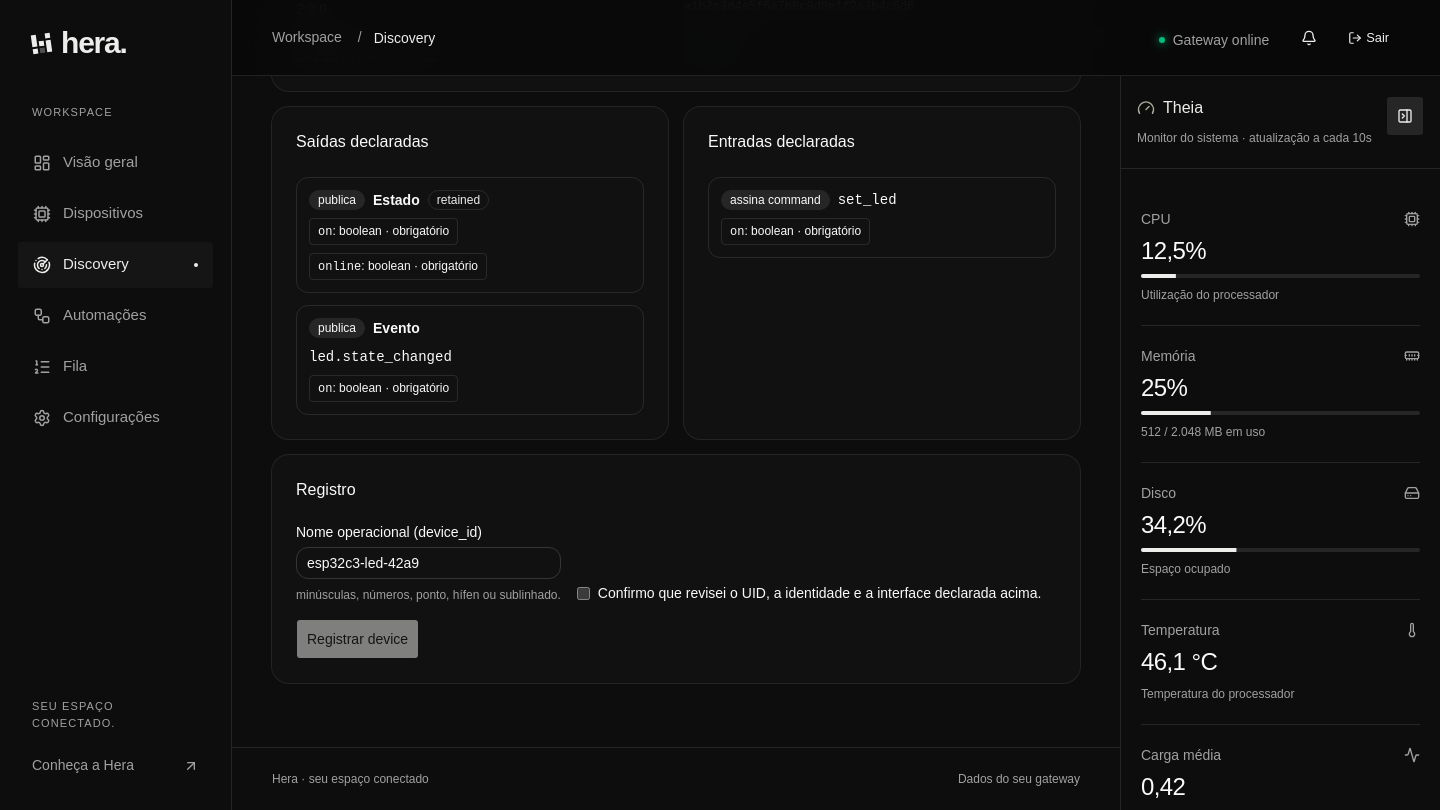
still allows reviewed manifests through the registration flow for esp32c3-42a9
(page scrolled)
Expected: the button "Registrar device" is disabled, [296,619,419,659]
Click the checkbox: click(583, 594) [577,587,590,600]
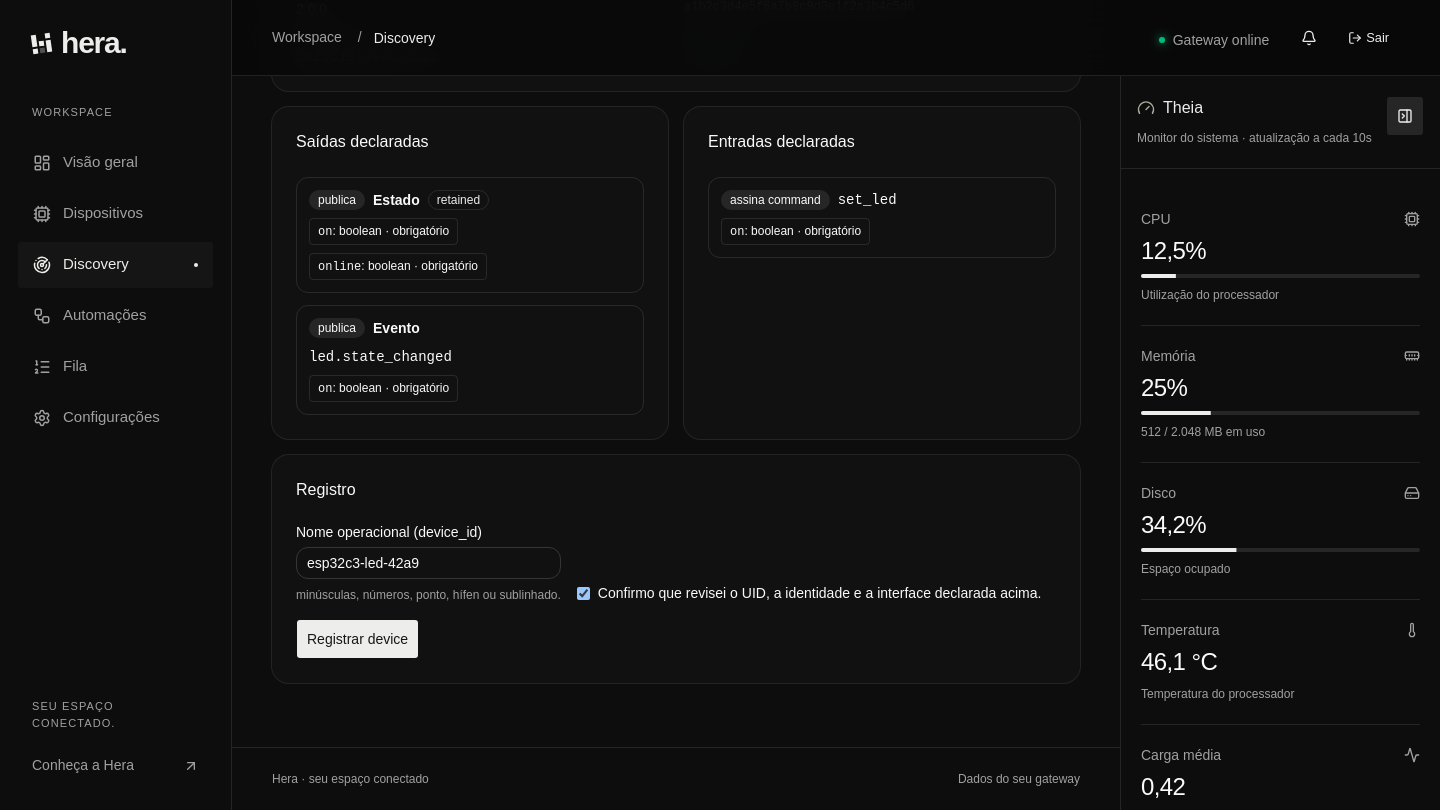
Expected: the button "Registrar device" is enabled, [296,619,419,659]
